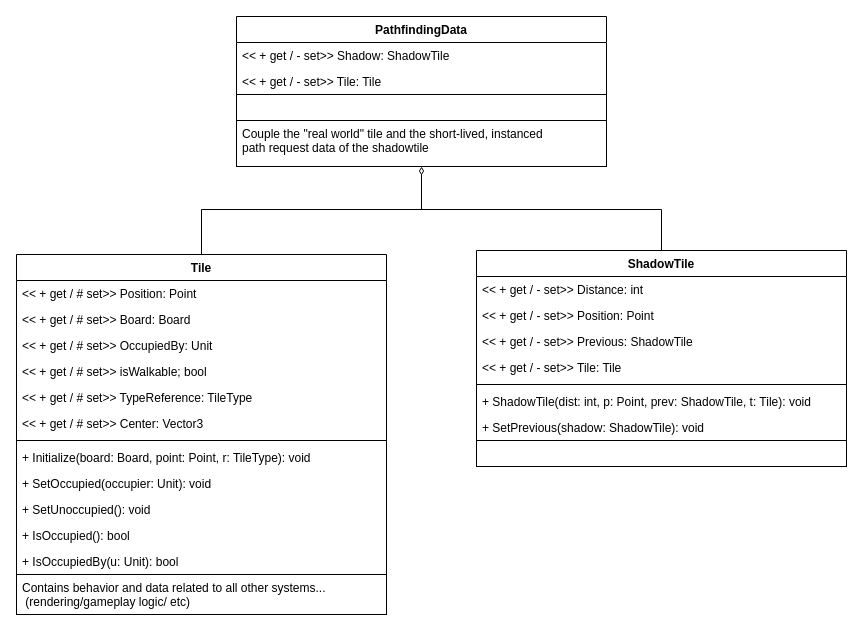
Image size: 863x631. Some labels were removed from this diagram. Here are the shapes that lost their labels. From the top down, the centre of each, then its label:
the point at 421,107: PathfindingData(t: Tile, st: ShadowTile): void
the point at 661,453: Store all data related to pathfinding requests
